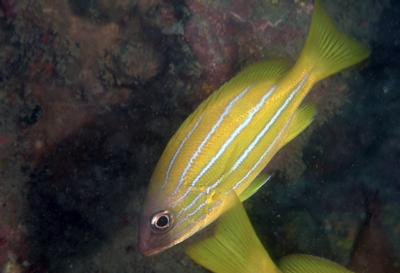Lutjanidae -Snappers-: (132, 0, 381, 260)
